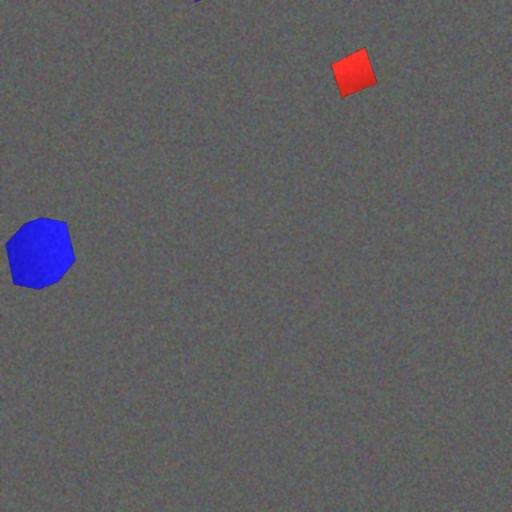RED_SQUARE: (330, 46, 378, 98)
